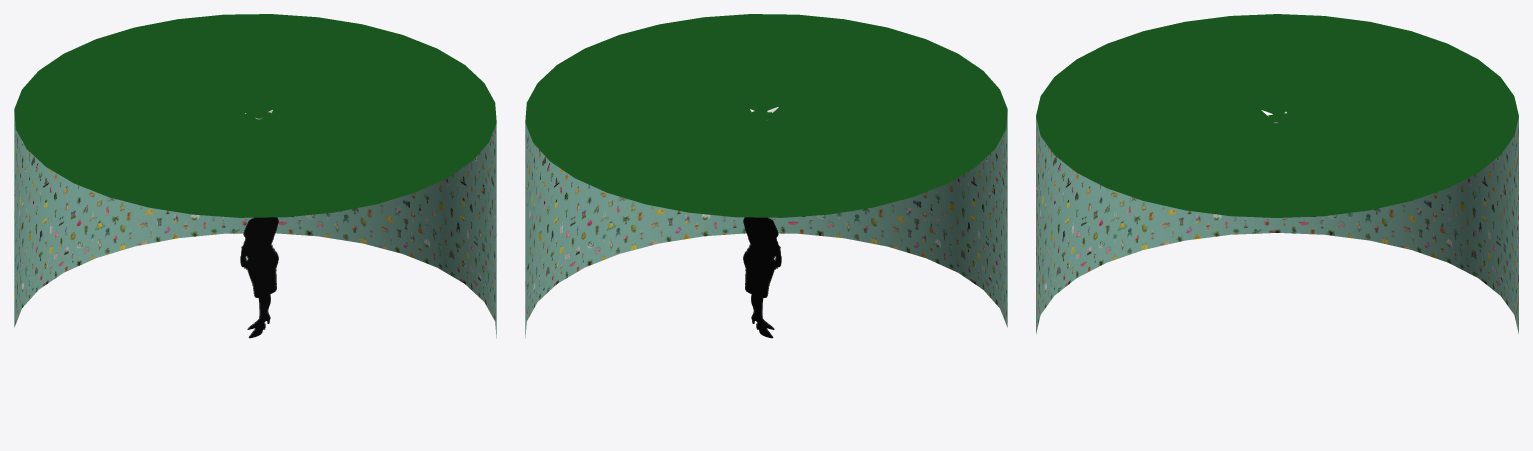
File: paradisepractice.glb
3 views of the same model, side by side, from view 1: azimuth 30°, elevation 25°; view 2: azimuth 150°, elevation 25°; view 3: azimuth 270°, elevation 25° (orthographic).
Parts seen in each view (by area): view 1: Cylinder.001, Cylinder, Plane; view 2: Cylinder.001, Cylinder, Plane; view 3: Cylinder.001, Cylinder.
Part boxes in pixels (left/top/right/bottom): Cylinder.001: left=14, top=14, right=496, bottom=217; Cylinder: left=14, top=112, right=496, bottom=338; Plane: left=240, top=217, right=278, bottom=338; Cylinder.001: left=525, top=14, right=1007, bottom=217; Cylinder: left=525, top=112, right=1007, bottom=338; Plane: left=743, top=217, right=781, bottom=338; Cylinder.001: left=1036, top=14, right=1518, bottom=217; Cylinder: left=1036, top=117, right=1518, bottom=333.
Size of the model in its own units: 12.98 by 6.75 by 12.98.
Materials: 4 (2 with a texture image).
